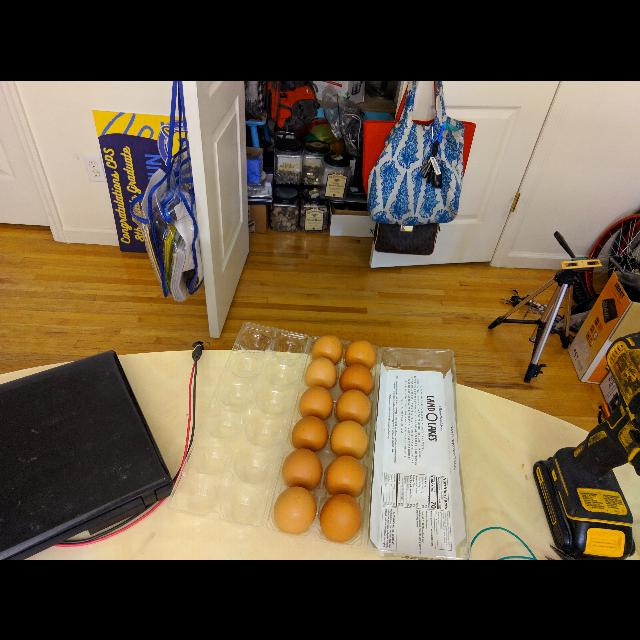Egg: (318, 488, 368, 548), (270, 481, 316, 539), (321, 450, 371, 502), (276, 443, 324, 493), (326, 419, 372, 461), (341, 332, 384, 373), (334, 387, 374, 428), (290, 413, 330, 453), (296, 384, 336, 424), (338, 361, 377, 399), (303, 353, 339, 389), (312, 329, 344, 365)
